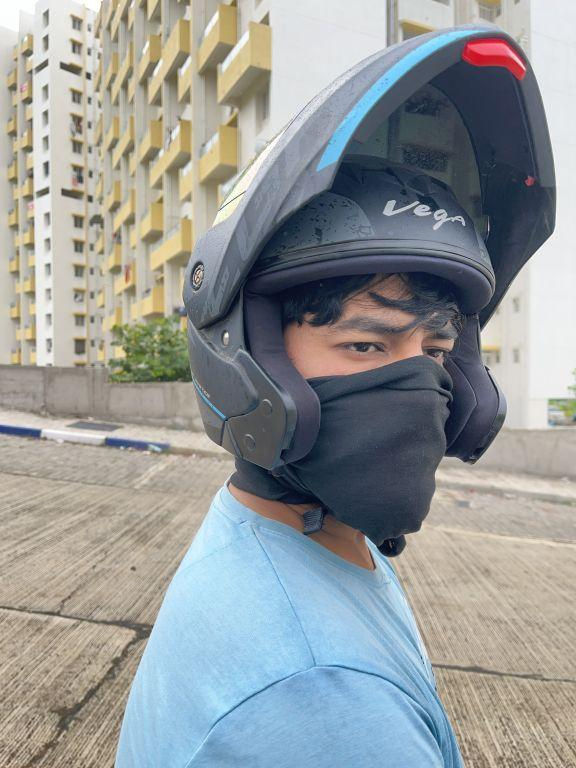helmet: (172, 19, 560, 570)
